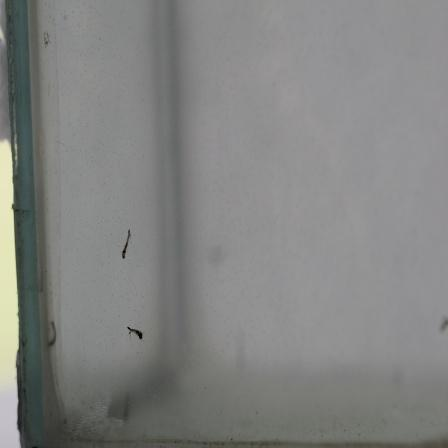Jentik-Nyamuk: (43, 318, 61, 350), (119, 224, 132, 262), (124, 322, 147, 342)
